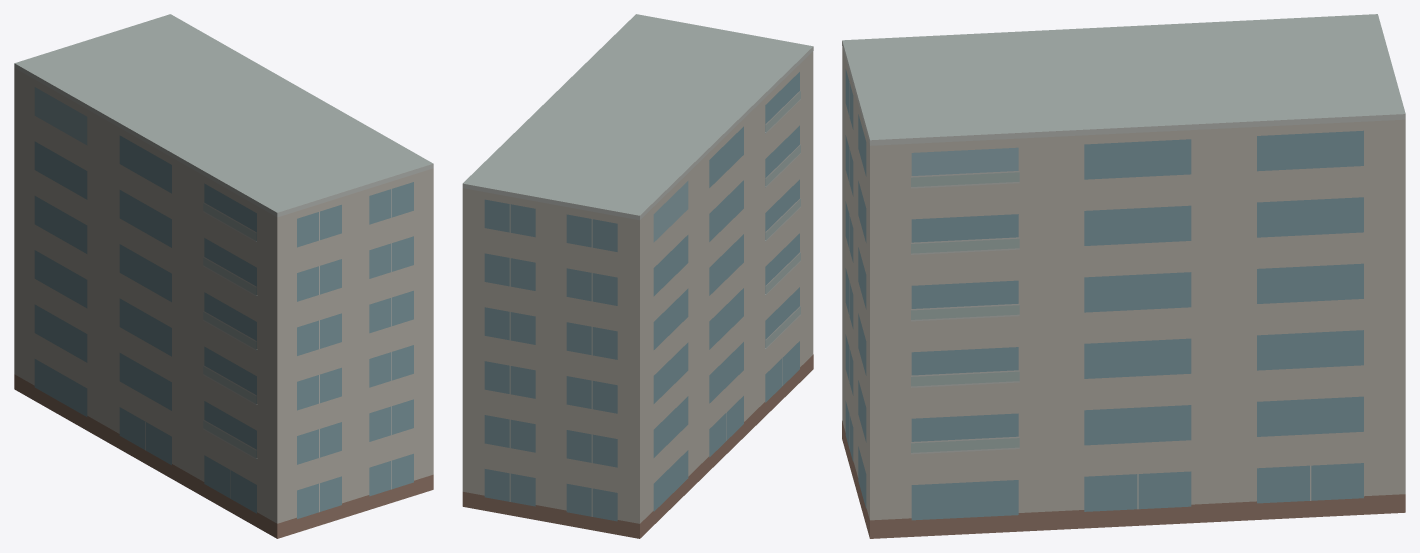
File: survey-upis-32746757.glb
3 views of the same model, side by side, from view 1: azimuth 30°, elevation 25°; view 2: azimuth 150°, elevation 25°; view 3: azimuth 270°, elevation 25° (orthographic). The views are drawn at different scales.
Parts seen in each view (by area): view 1: survey-upis-32746757.tmp; view 2: survey-upis-32746757.tmp; view 3: survey-upis-32746757.tmp.
Part boxes in pixels (<box>): survey-upis-32746757.tmp: <box>14,14,433,538</box>; survey-upis-32746757.tmp: <box>462,14,813,538</box>; survey-upis-32746757.tmp: <box>842,14,1405,538</box>.
Size of the model in its own units: 11.76 by 17.3 by 22.18.
